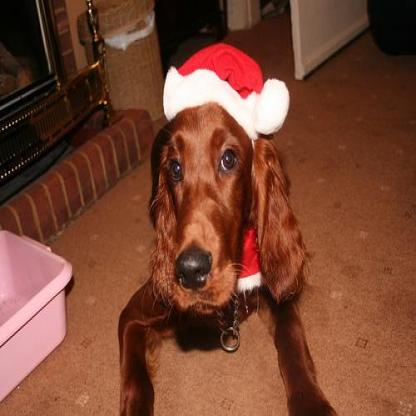Irish_setter: (116, 41, 337, 414)
